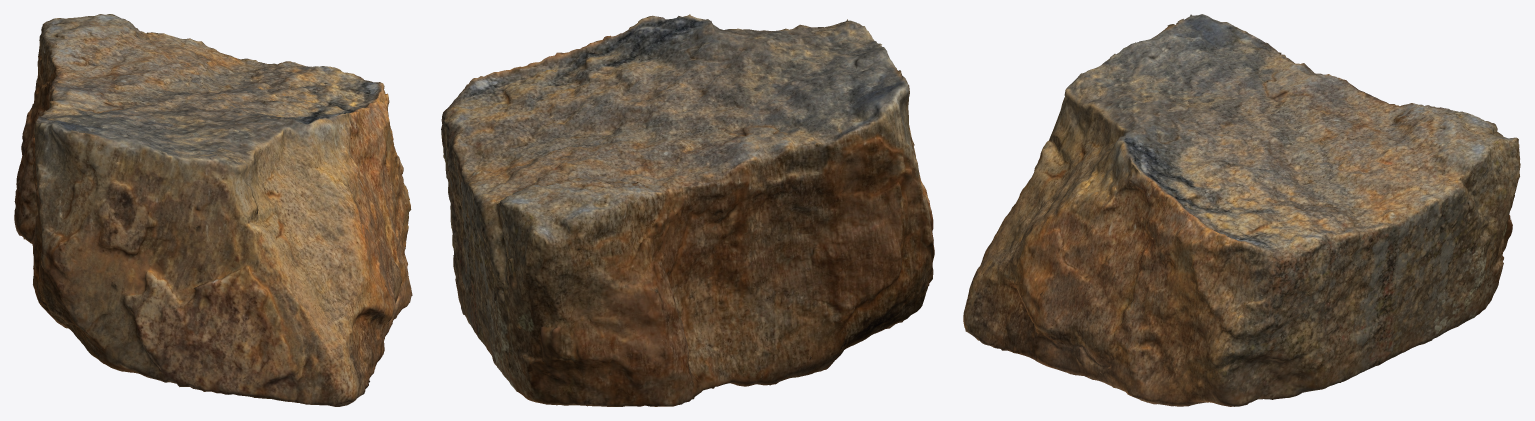
Rendered from namaqualand_boulder_03.glb.
3 renders of one model, left to right at view 1: azimuth 30°, elevation 25°; view 2: azimuth 150°, elevation 25°; view 3: azimuth 270°, elevation 25°, orthographic. The views are drawn at different scales.
Parts seen in each view (by area): view 1: boulder_03_LOD0; view 2: boulder_03_LOD0; view 3: boulder_03_LOD0.
Boxes of the visible parts, bbox=[...] form: boulder_03_LOD0: bbox=[14, 14, 412, 406]; boulder_03_LOD0: bbox=[441, 14, 934, 406]; boulder_03_LOD0: bbox=[963, 14, 1520, 406].
Size of the model in its own units: 2.41 by 1.47 by 3.07.
Materials: 1 (1 with a texture image).
